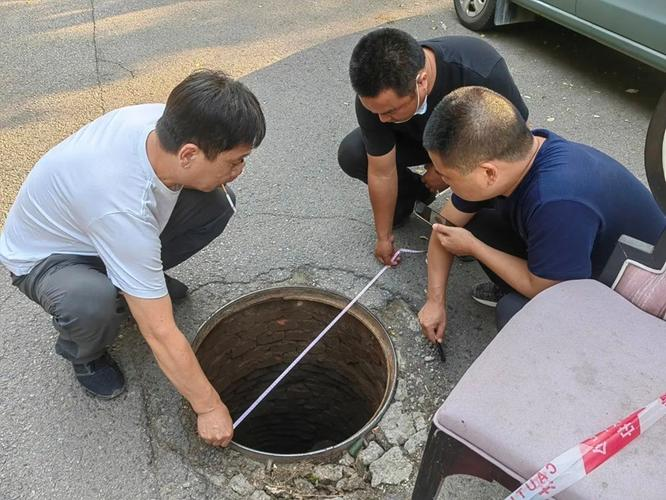lose: (177, 279, 401, 462)
